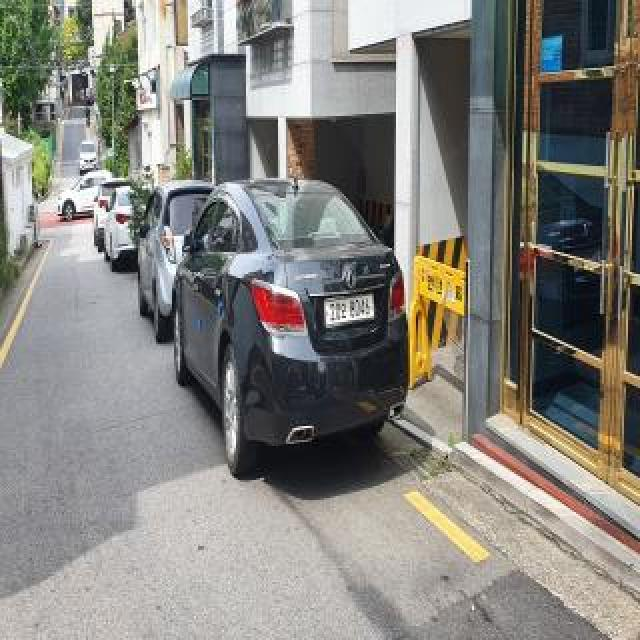car: (168, 172, 416, 488)
illegal_plate: (318, 292, 377, 333)
